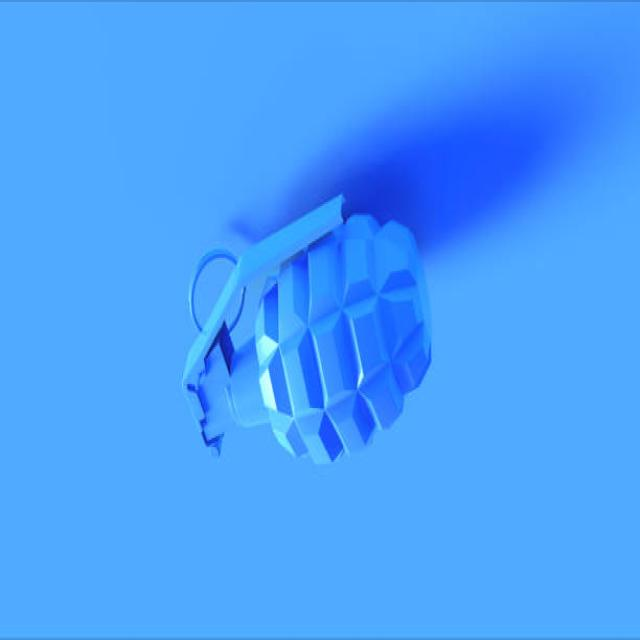grenade: (179, 186, 437, 473)
